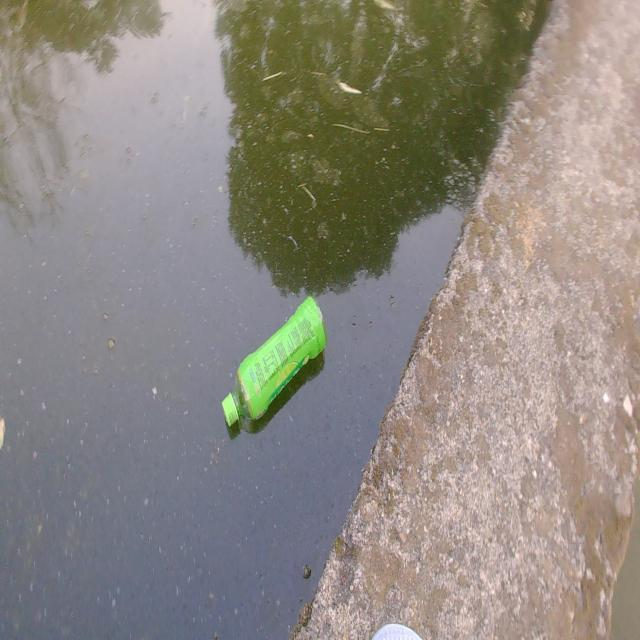bottle: (209, 287, 344, 456)
